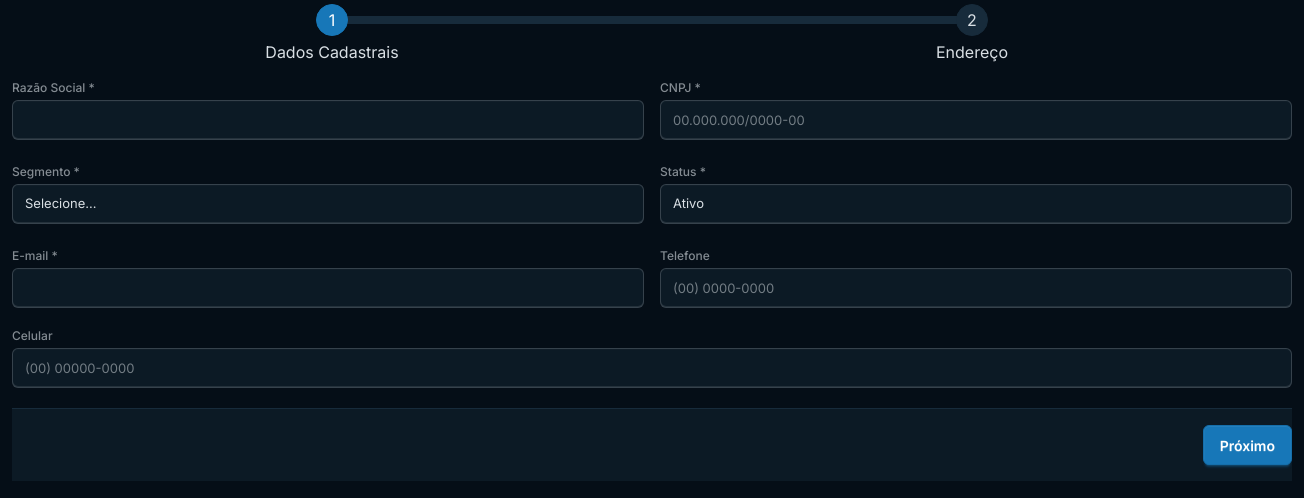
ClientStepper — passo 2 (Endereço) › avança para o passo 2 com dados válidos no passo 1
The width and height of the screenshot is (1304, 498).
In the field labelled "Razão Social *": (328, 120) [12, 100, 644, 140], type "Empresa XYZ"
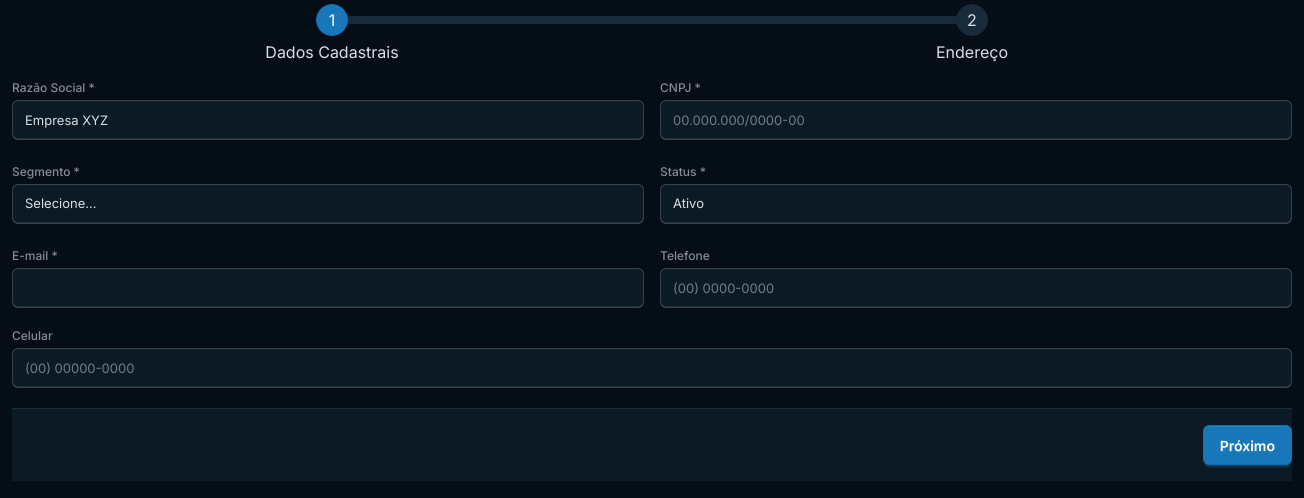
In the field labelled "CNPJ *": (976, 120) [660, 100, 1292, 140], type "11.222.333/0001-81"
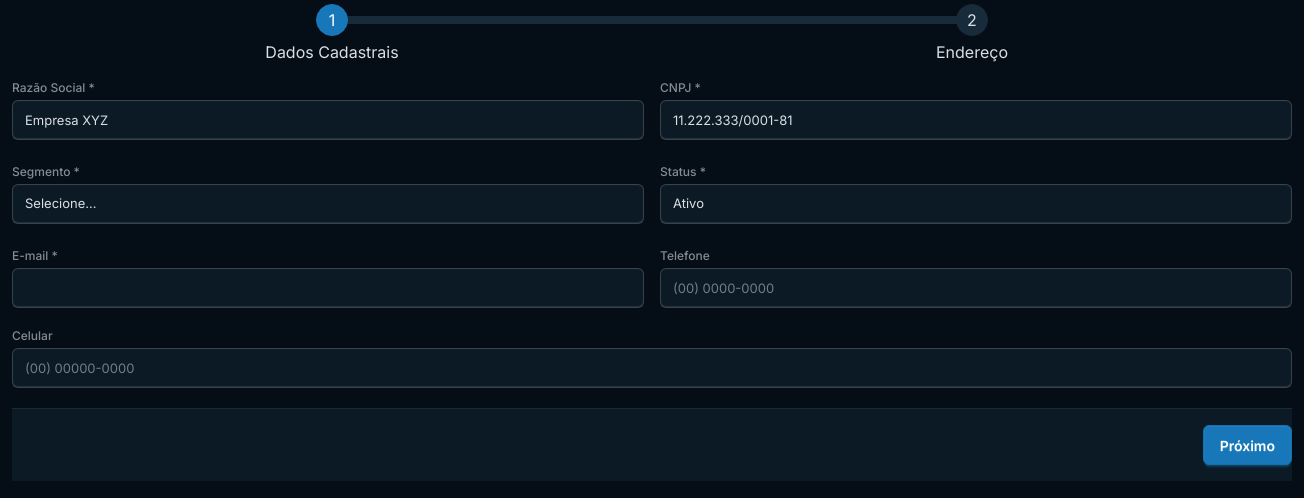
Select "Industrial" in the dropdown labelled "Segmento *": (328, 204) [12, 184, 644, 224]
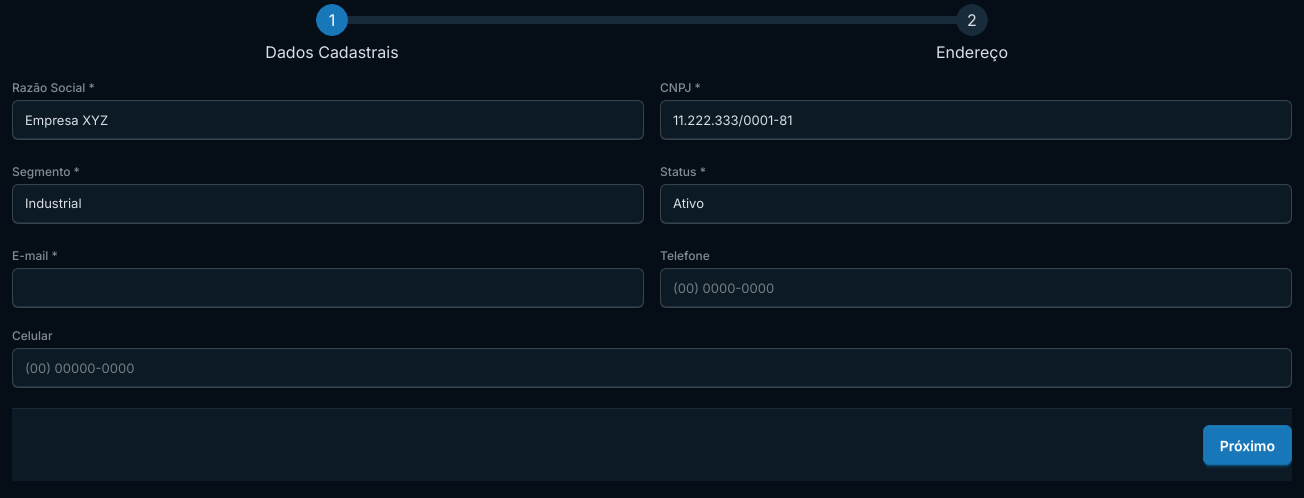
In the field labelled "E-mail *": (328, 288) [12, 268, 644, 308], type "xyz@empresa.com"
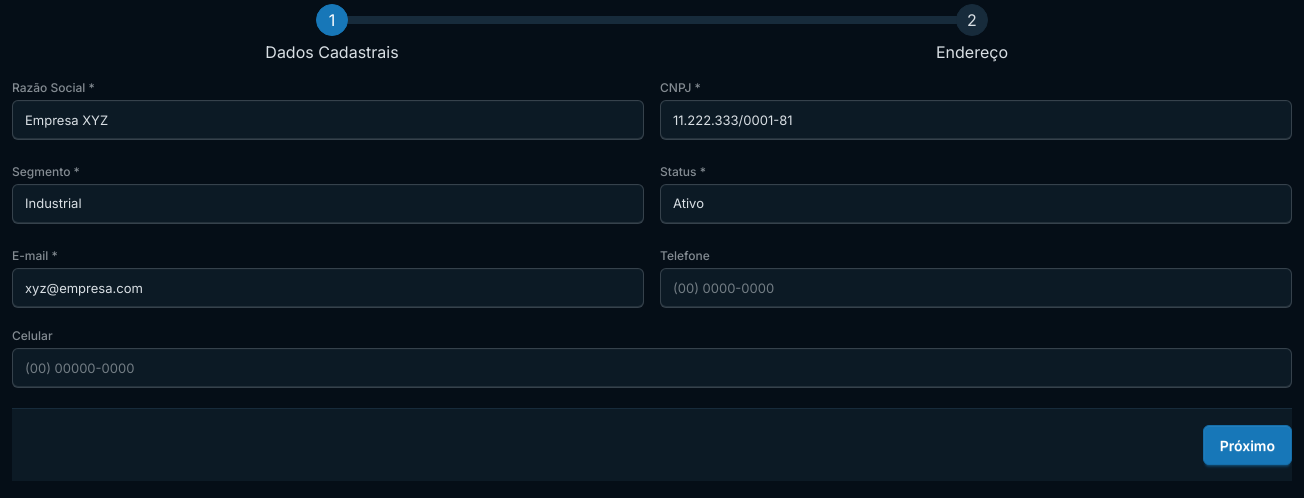
Click the button "Próximo": (1247, 445) [1203, 425, 1292, 465]
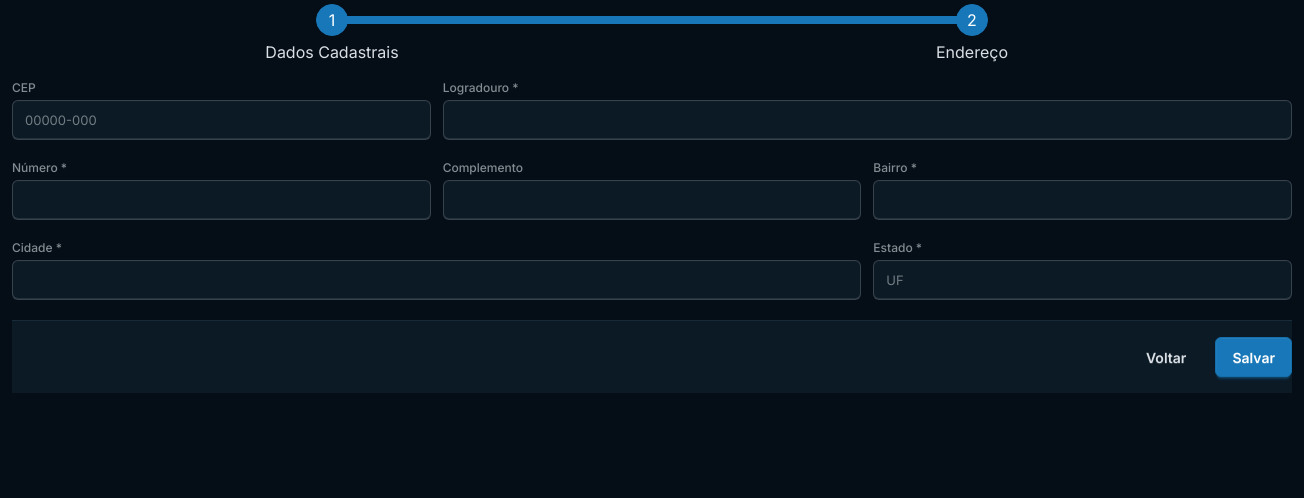
Expected: the field labelled "Logradouro *" is shown, [443, 100, 1292, 140]
